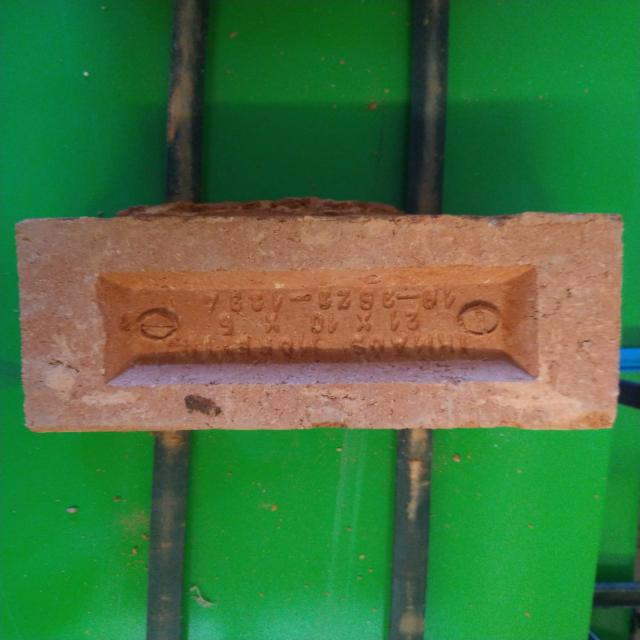bricks_ruin: (19, 196, 621, 435)
